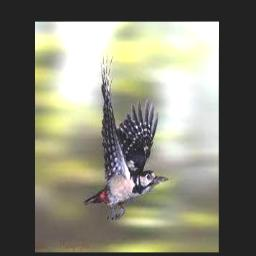Woodpecker: (83, 51, 169, 219)
